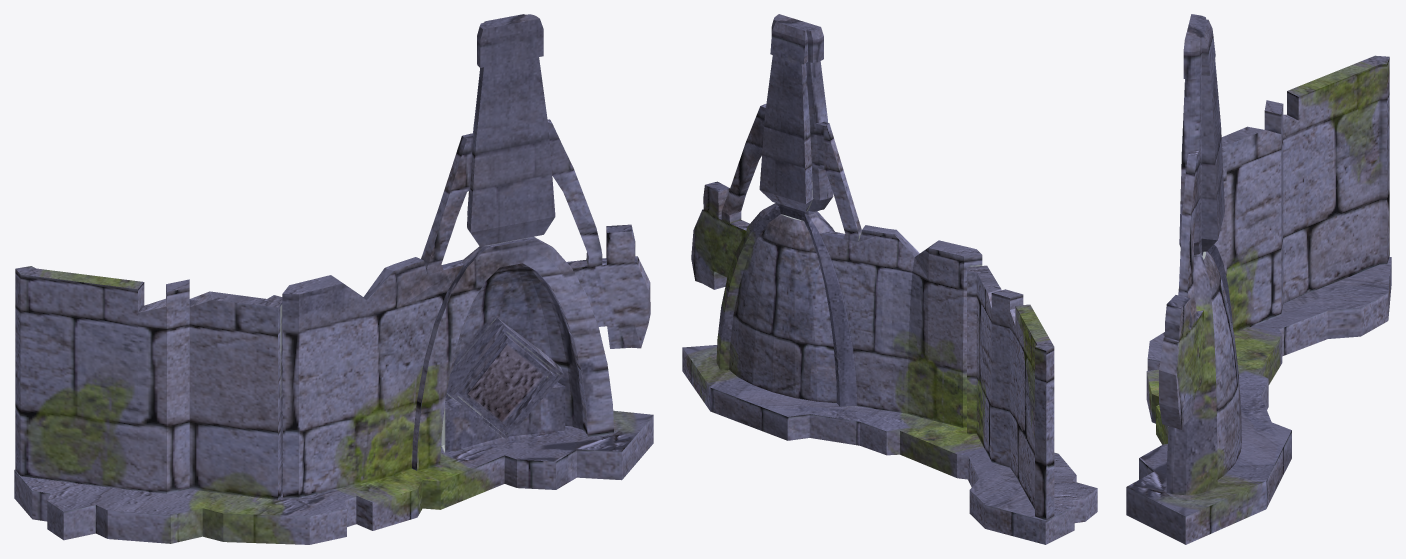
3 views of the same model, side by side, from view 1: azimuth 30°, elevation 25°; view 2: azimuth 150°, elevation 25°; view 3: azimuth 270°, elevation 25° (orthographic). The views are drawn at different scales.
Size of the model in its own units: 12.7 by 10.1 by 5.4.
Materials: 1 (1 with a texture image).
